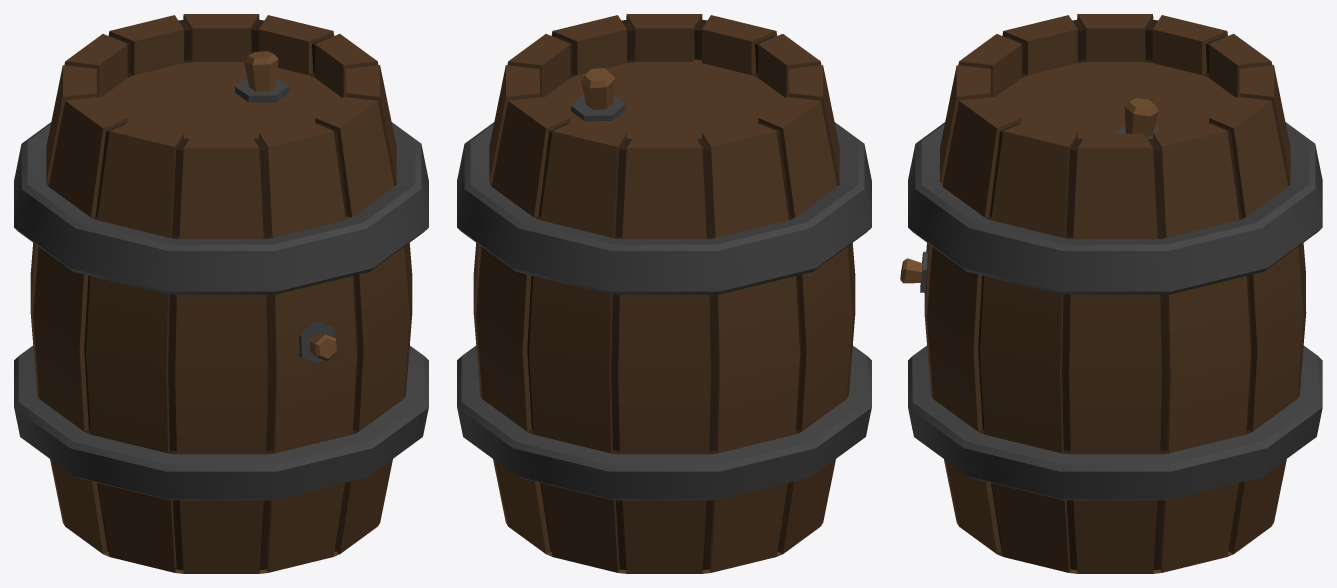
The model's file is Бочка.fbx.
3 views of the same model, side by side, from view 1: azimuth 30°, elevation 25°; view 2: azimuth 150°, elevation 25°; view 3: azimuth 270°, elevation 25° (orthographic).
Parts seen in each view (by area): view 1: Circle.001; view 2: Circle.001; view 3: Circle.001.
Part boxes in pixels (x1=…): Circle.001: x1=14, y1=14, x2=428, y2=573; Circle.001: x1=457, y1=14, x2=871, y2=573; Circle.001: x1=900, y1=14, x2=1322, y2=573.
Bounding box in the file's own units: 254 × 291 × 258.
